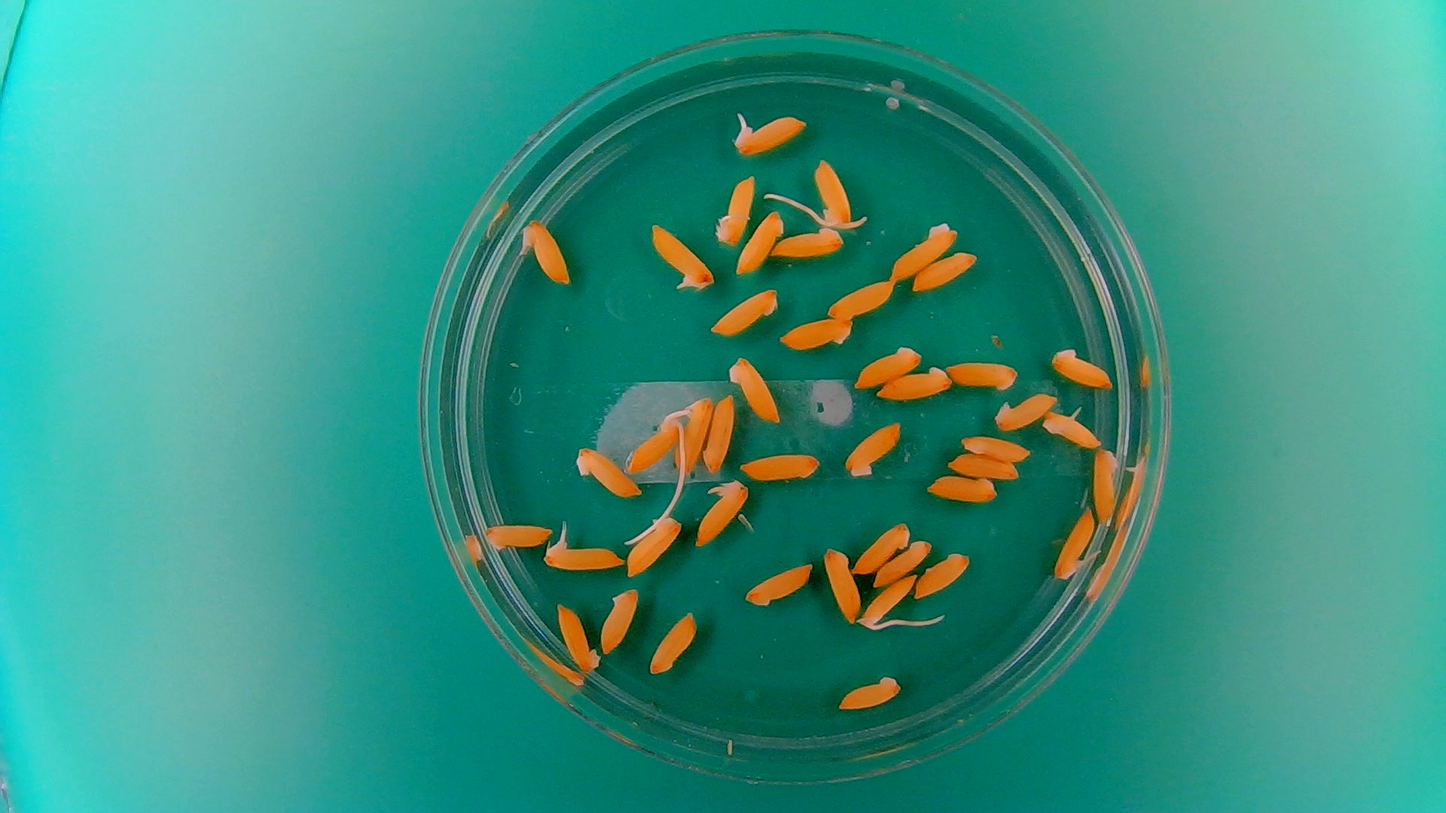no: (886, 219, 959, 280), (725, 353, 780, 425), (572, 445, 642, 500), (707, 285, 779, 337), (734, 206, 787, 276), (843, 419, 903, 479), (554, 599, 602, 674), (646, 607, 697, 677), (743, 560, 815, 609), (850, 519, 912, 575), (712, 170, 757, 244), (871, 537, 932, 589), (821, 544, 859, 626), (911, 549, 973, 599), (876, 362, 953, 402), (675, 394, 713, 475), (700, 390, 737, 473), (599, 583, 641, 656), (853, 343, 920, 388), (825, 278, 895, 320), (912, 249, 980, 292), (1049, 345, 1114, 389), (776, 315, 855, 351), (738, 449, 821, 483), (993, 390, 1058, 432), (835, 672, 902, 712), (770, 224, 846, 259), (481, 518, 554, 553), (1091, 445, 1121, 525), (958, 432, 1031, 463), (945, 451, 1020, 481), (925, 473, 997, 504)
yes: (538, 511, 627, 574), (647, 221, 715, 293), (624, 510, 685, 580), (624, 409, 688, 474), (694, 477, 751, 549), (517, 215, 572, 287), (858, 572, 923, 632), (729, 109, 810, 157), (1051, 504, 1096, 583), (812, 154, 856, 227), (1041, 407, 1103, 449)
